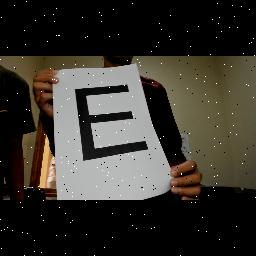e: (72, 81, 154, 163)
